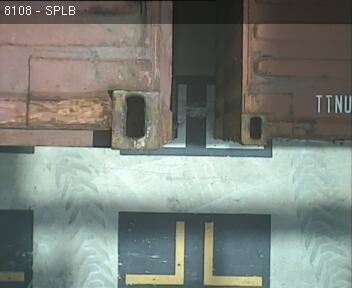groundmarker_1: (124, 220, 261, 285), (164, 82, 265, 148)
